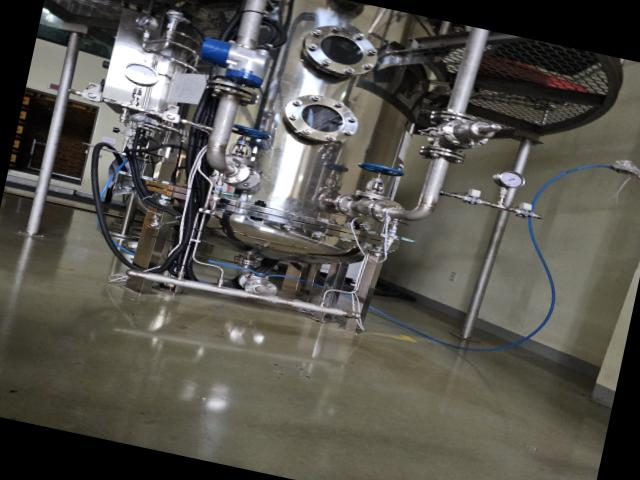Flange: (297, 19, 384, 82), (277, 88, 363, 151)
Flush Ring: (200, 152, 262, 194), (200, 76, 258, 107), (427, 106, 484, 132), (364, 196, 406, 228), (333, 191, 375, 222), (418, 142, 466, 166)
GasRegulator: (127, 1, 210, 73)
Nuts: (152, 108, 190, 129), (73, 87, 111, 106), (510, 206, 540, 222), (459, 194, 488, 209)
Piston Valve: (352, 160, 406, 205), (222, 122, 272, 169)
Pressure Gage: (114, 59, 160, 111), (486, 166, 526, 212), (240, 276, 280, 302)
